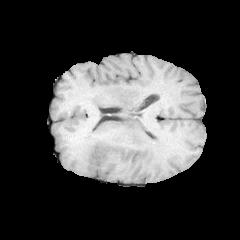glioma: (62, 110, 163, 178)
